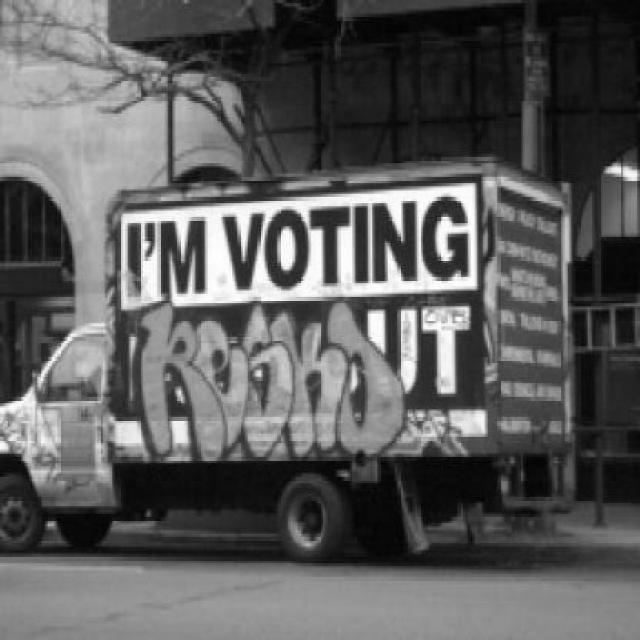Box Truck: (0, 158, 577, 563)
